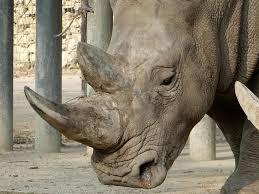Rhinoceros: (15, 9, 247, 192)
